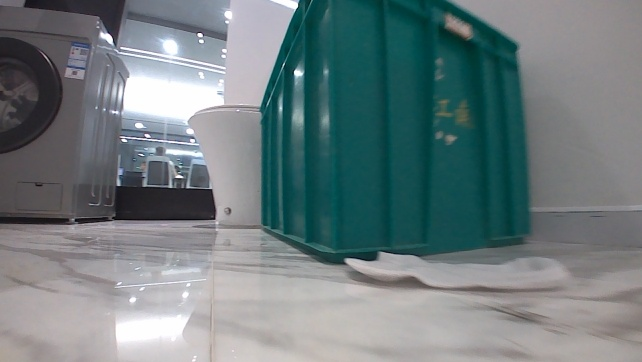socks: (333, 250, 576, 294)
toilet: (183, 101, 262, 228)
washing_machine1: (0, 5, 130, 223)
